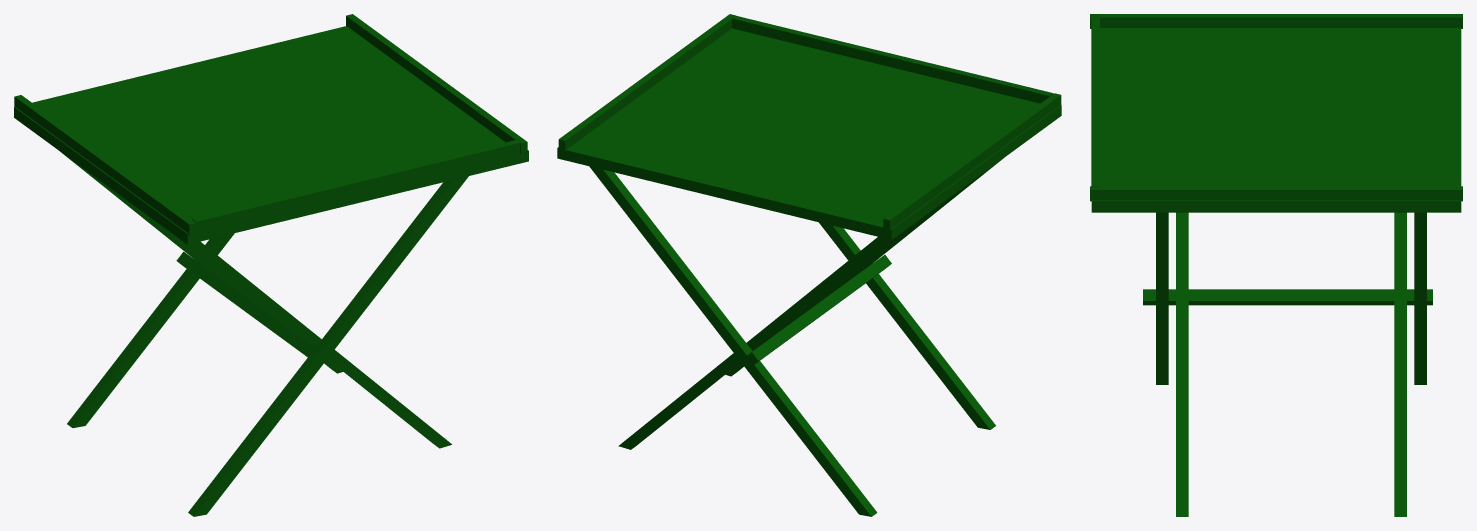
Rendered from Structure06.FBX.
3 views of the same model, side by side, from view 1: azimuth 30°, elevation 25°; view 2: azimuth 150°, elevation 25°; view 3: azimuth 270°, elevation 25° (orthographic). The views are drawn at different scales.
Parts seen in each view (by area): view 1: SM_structure06_0; view 2: SM_structure06_0; view 3: SM_structure06_0.
Boxes of the visible parts, x1,y1,x2,y2 form: SM_structure06_0: (14, 14, 528, 516); SM_structure06_0: (557, 14, 1061, 516); SM_structure06_0: (1090, 14, 1462, 516).
Bounding box in the file's own units: 100 × 88.72 × 90.96.
